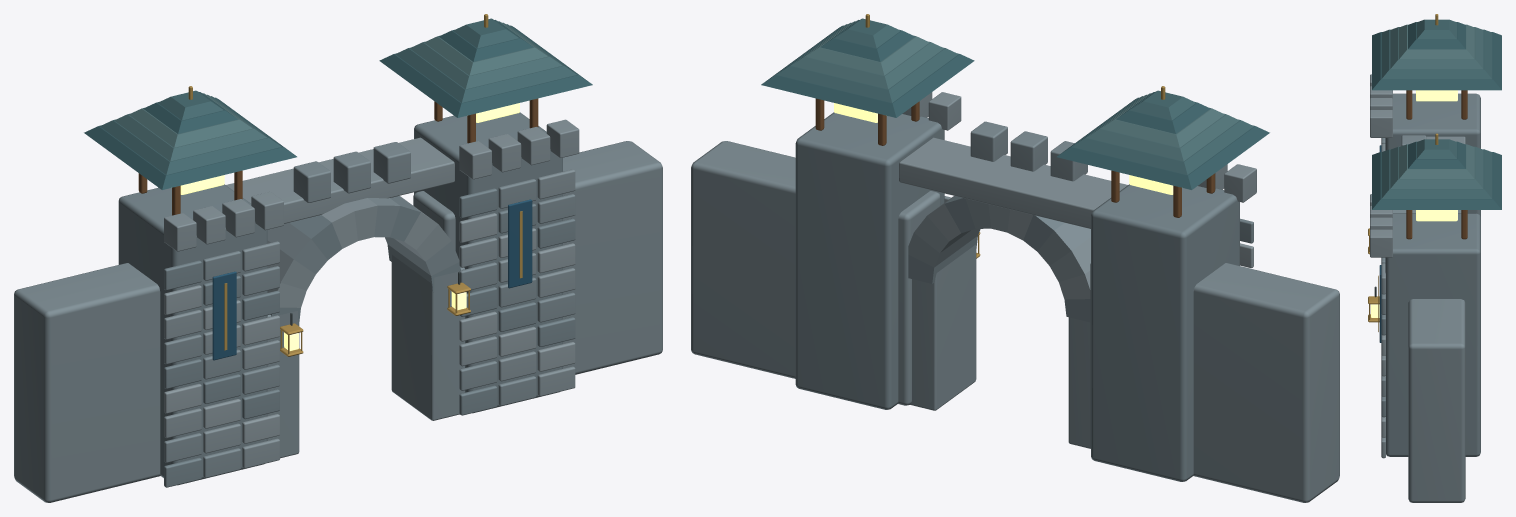
Rendered from SM_SouthGate.fbx.
The picture shows the model from 3 angles, left to right: view 1: azimuth 30°, elevation 25°; view 2: azimuth 150°, elevation 25°; view 3: azimuth 270°, elevation 25°; orthographic projection. The views are drawn at different scales.
Visible parts, largest first — view 1: Gate curtain, Gate curtain.001, Gate tower, Portal pier.001, Gate tower.001, Gate upper lintel, Pagoda roof tier.006, Pagoda roof tier, Pagoda roof tier.001, Pagoda roof tier.007, Portal pier, Pagoda roof tier.008 (+77 smaller); view 2: Gate tower, Gate curtain, Gate tower.001, Gate curtain.001, Gate upper lintel, Portal pier.001, Pagoda roof tier.006, Pagoda roof tier, Portal pier, Pagoda roof tier.001, Pagoda roof tier.007, Pagoda roof tier.008 (+18 smaller); view 3: Gate tower.001, Gate curtain.001, Gate tower, Pagoda roof tier, Pagoda roof tier.006, Pagoda roof tier.001, Pagoda roof tier.007, Pagoda roof tier.002, Pagoda roof tier.008, Pagoda roof tier.003, Pagoda roof tier.009, Pagoda roof tier.004 (+18 smaller).
Part boxes in pixels (x1=…): Gate curtain: x1=14, y1=263, x2=160, y2=502; Gate curtain.001: x1=413, y1=141, x2=662, y2=374; Gate tower: x1=118, y1=184, x2=267, y2=485; Portal pier.001: x1=391, y1=255, x2=465, y2=420; Gate tower.001: x1=414, y1=112, x2=562, y2=413; Gate upper lintel: x1=226, y1=137, x2=454, y2=223; Pagoda roof tier.006: x1=379, y1=25, x2=592, y2=117; Pagoda roof tier: x1=84, y1=97, x2=296, y2=189; Pagoda roof tier.001: x1=100, y1=96, x2=281, y2=174; Pagoda roof tier.007: x1=395, y1=24, x2=576, y2=102; Portal pier: x1=267, y1=311, x2=299, y2=458; Pagoda roof tier.008: x1=410, y1=22, x2=562, y2=89; Gate tower: x1=1091, y1=184, x2=1239, y2=481; Gate curtain: x1=1090, y1=263, x2=1339, y2=502; Gate tower.001: x1=795, y1=112, x2=944, y2=409; Gate curtain.001: x1=691, y1=141, x2=940, y2=405; Gate upper lintel: x1=899, y1=137, x2=1127, y2=228; Portal pier.001: x1=910, y1=244, x2=976, y2=410; Pagoda roof tier.006: x1=761, y1=25, x2=974, y2=117; Pagoda roof tier: x1=1057, y1=97, x2=1269, y2=189; Portal pier: x1=1068, y1=317, x2=1090, y2=448; Pagoda roof tier.001: x1=1072, y1=96, x2=1253, y2=174; Pagoda roof tier.007: x1=777, y1=24, x2=958, y2=102; Pagoda roof tier.008: x1=791, y1=22, x2=943, y2=89; Gate tower.001: x1=1385, y1=213, x2=1480, y2=456; Gate curtain.001: x1=1408, y1=299, x2=1465, y2=502; Gate tower: x1=1385, y1=93, x2=1480, y2=217; Pagoda roof tier: x1=1372, y1=32, x2=1501, y2=90; Pagoda roof tier.006: x1=1372, y1=152, x2=1501, y2=209; Pagoda roof tier.001: x1=1381, y1=29, x2=1492, y2=79; Pagoda roof tier.007: x1=1381, y1=149, x2=1492, y2=198; Pagoda roof tier.002: x1=1390, y1=27, x2=1483, y2=69; Pagoda roof tier.008: x1=1390, y1=146, x2=1483, y2=188; Pagoda roof tier.003: x1=1399, y1=24, x2=1474, y2=59; Pagoda roof tier.009: x1=1399, y1=144, x2=1474, y2=178; Pagoda roof tier.004: x1=1408, y1=22, x2=1465, y2=49.
Bounding box in the file's own units: 1550 × 880 × 350.
